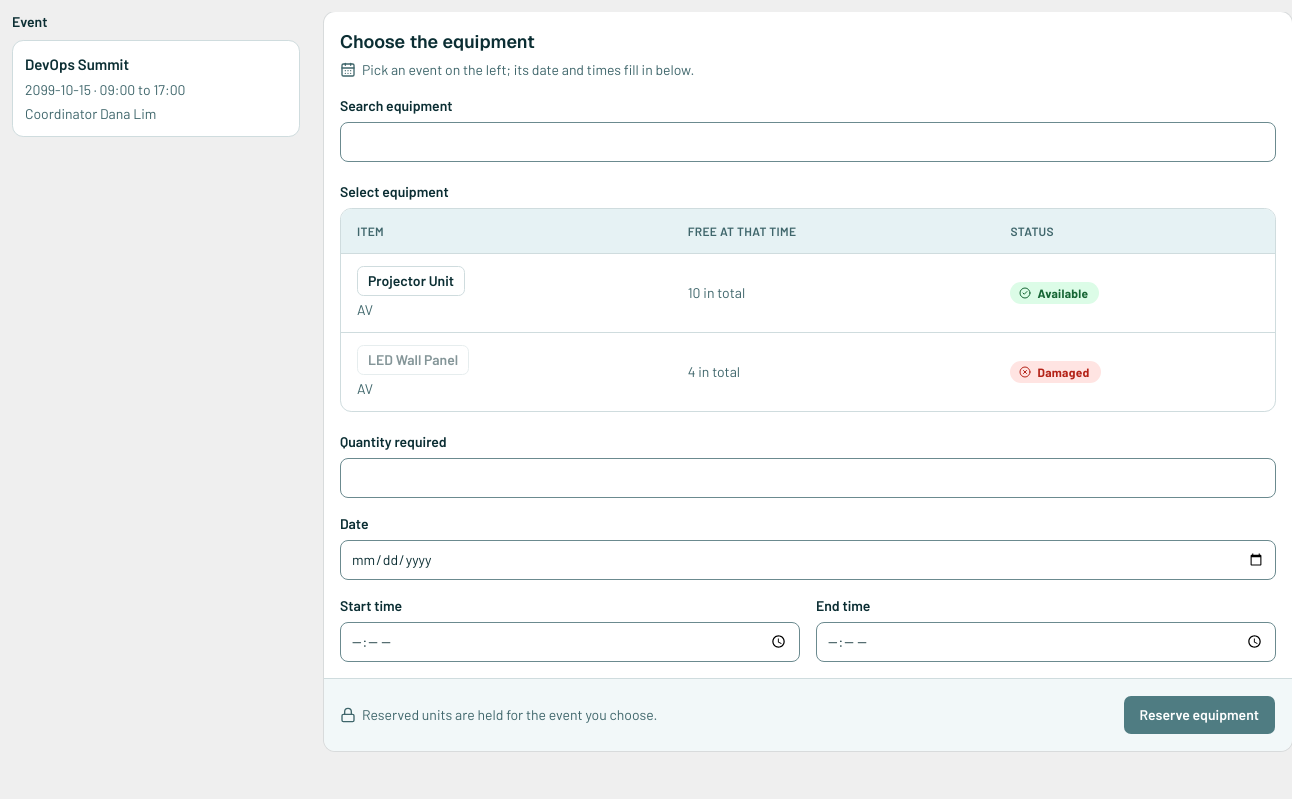
Test: SCRUM-19 equipment reservation form › SCRUM-19/AC6: clicking the selected card again unselects it
The width and height of the screenshot is (1292, 799).
Click the button "Projector Unit": (411, 280) [357,266,465,296]
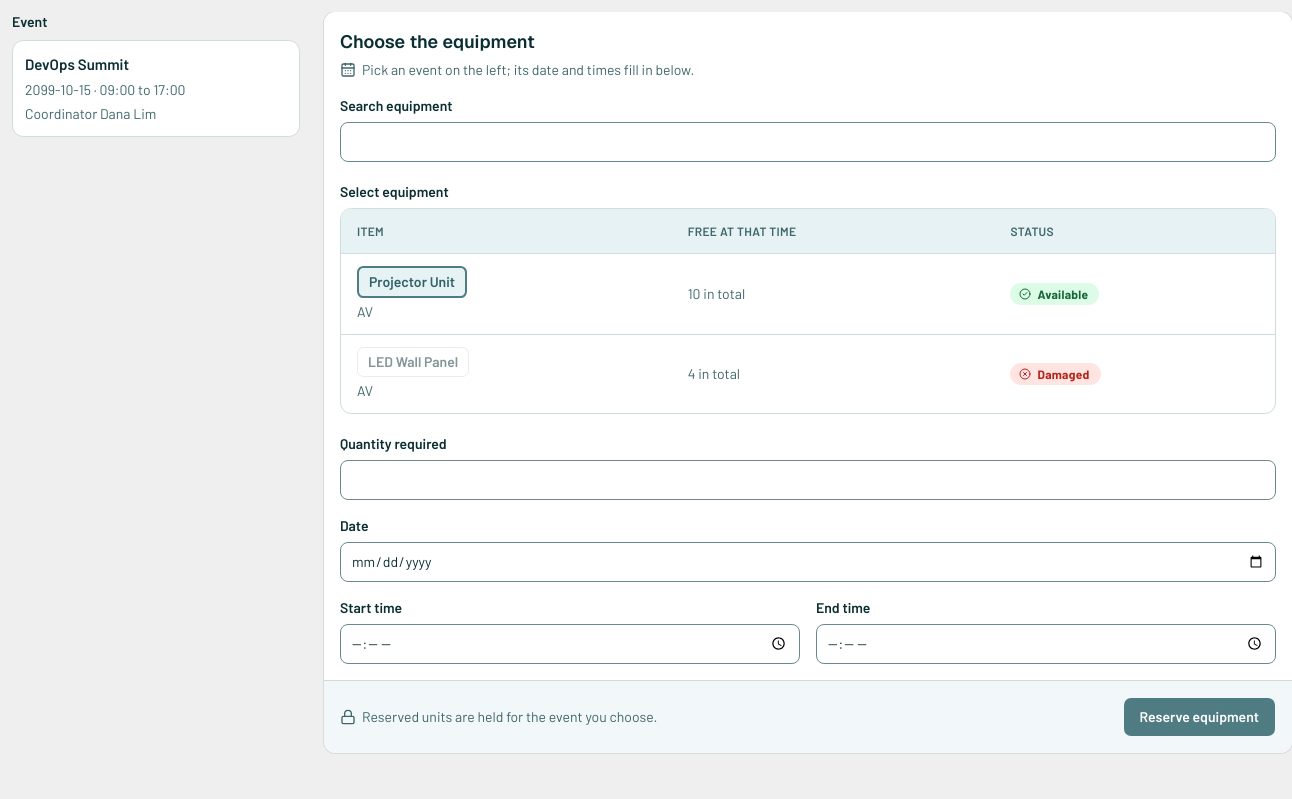
Click the button "Projector Unit": (412, 282) [357,266,467,298]
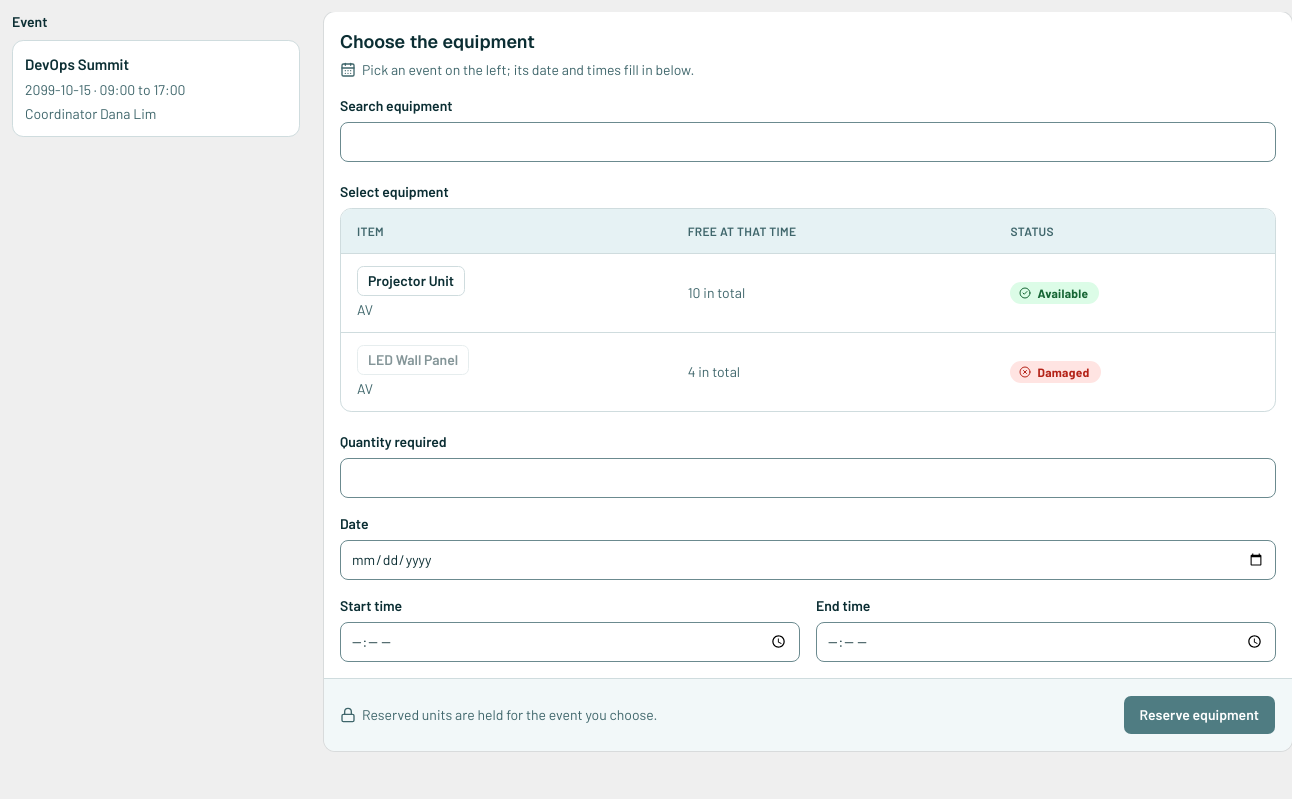
Click the button "Reserve equipment": (1199, 714) [1122,694,1276,734]
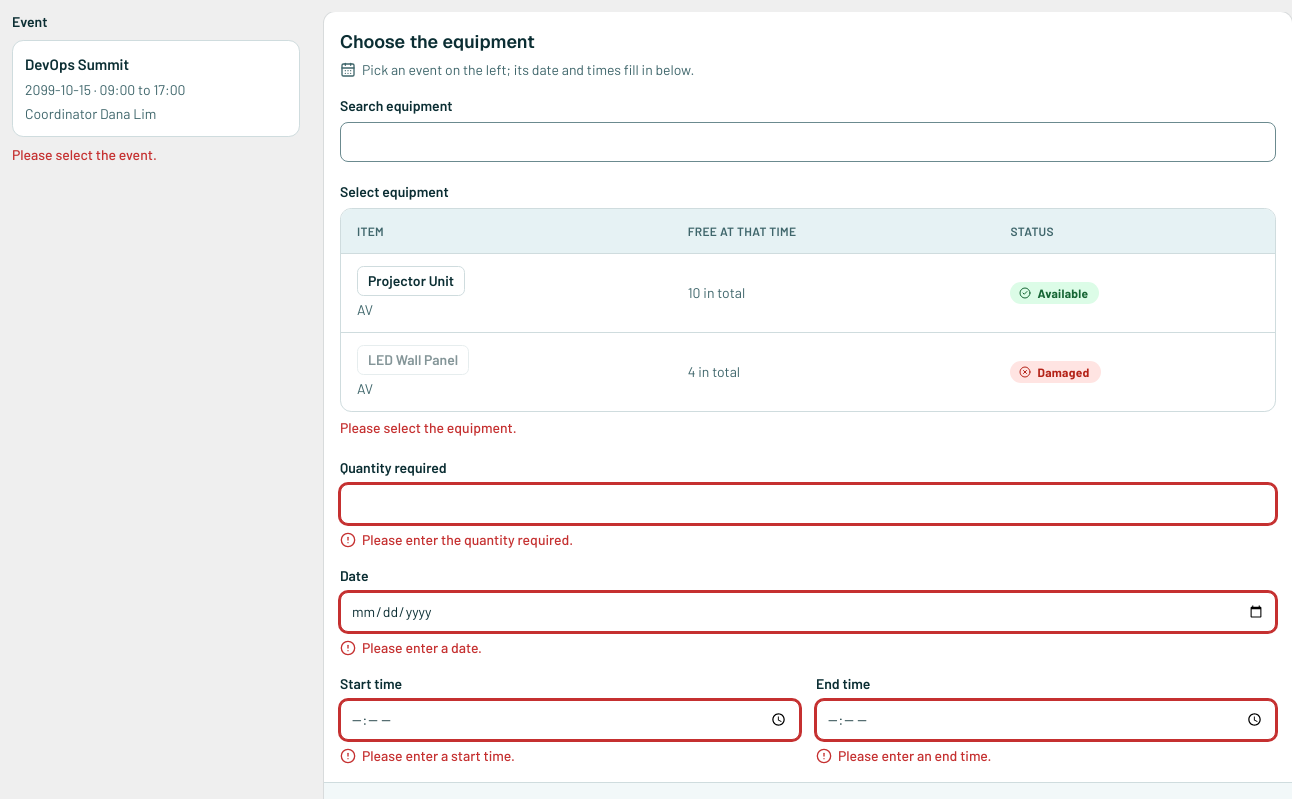
Check: the text "Please select the equipment." is shown, box [340,418,517,436]
